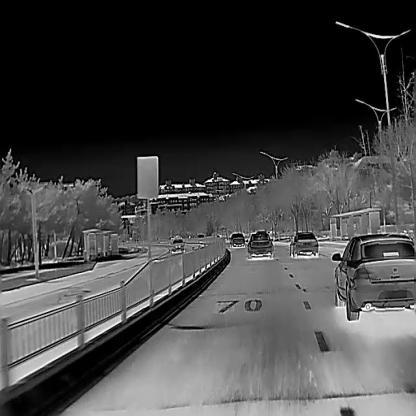car: (331, 232, 416, 320), (288, 231, 318, 258), (246, 233, 273, 259), (228, 232, 245, 247), (170, 238, 184, 253)
